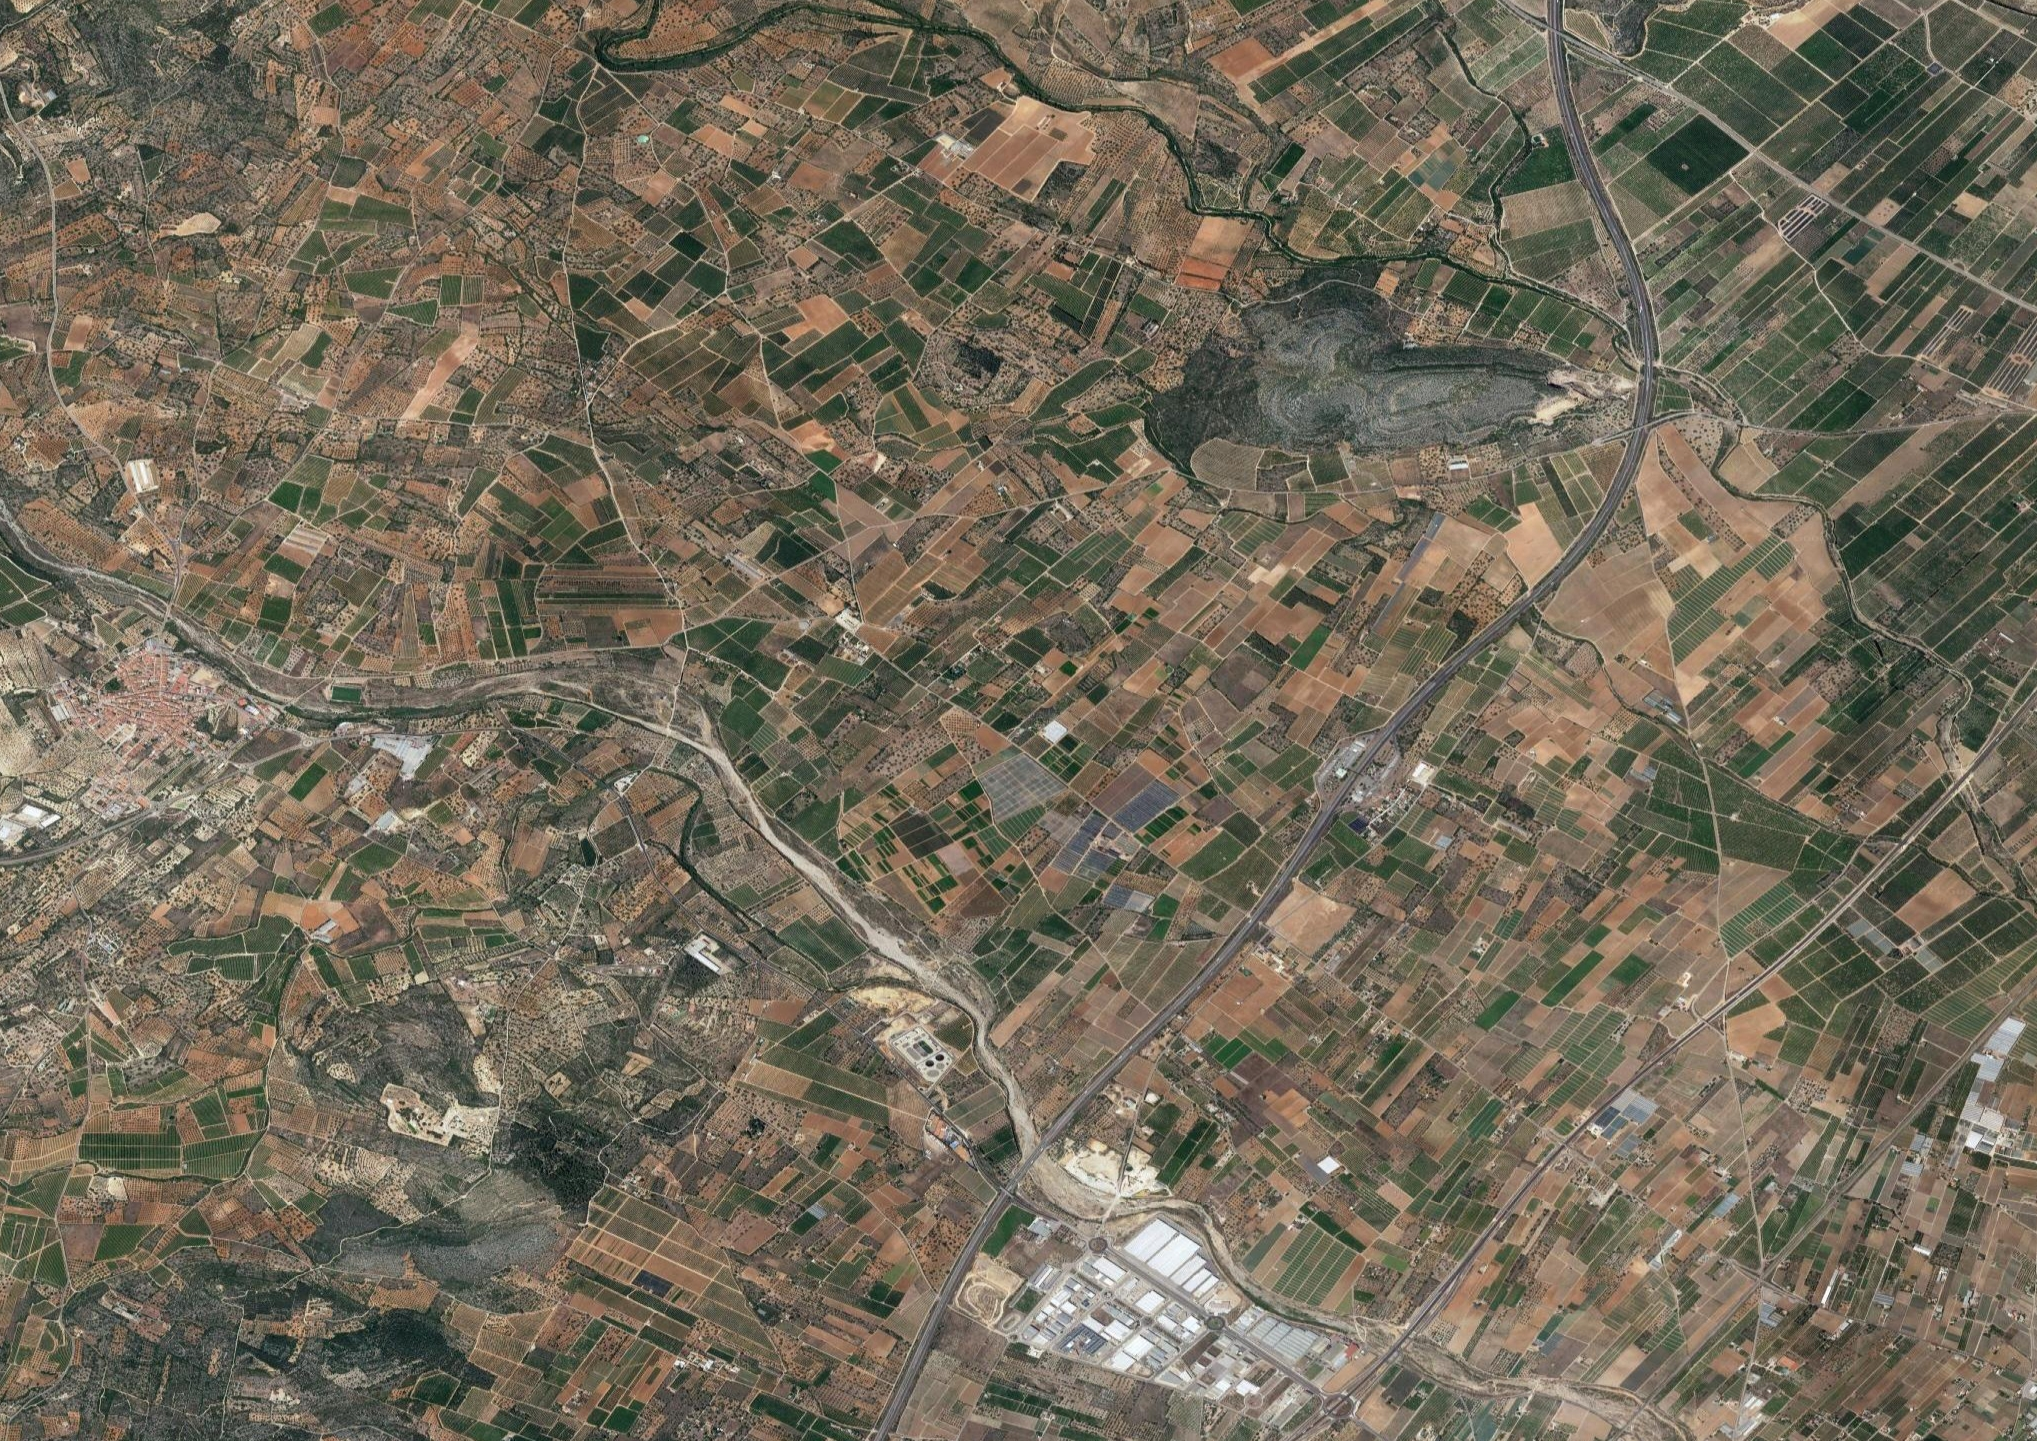industrial: (1006, 1210, 1320, 1405)
motorway: (1530, 359, 1664, 604), (1354, 593, 1521, 770), (1221, 767, 1359, 959), (1073, 956, 1224, 1106), (953, 1099, 1070, 1266), (1571, 143, 1660, 357), (870, 1268, 959, 1441), (1536, 2, 1603, 147)
